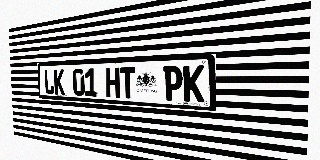0: (72, 69, 84, 96)
1: (84, 68, 97, 97)
H: (106, 68, 120, 98)
K: (183, 65, 204, 103), (53, 69, 64, 95)
L: (44, 70, 54, 95)
P: (163, 66, 183, 101)
T: (120, 67, 136, 99)
